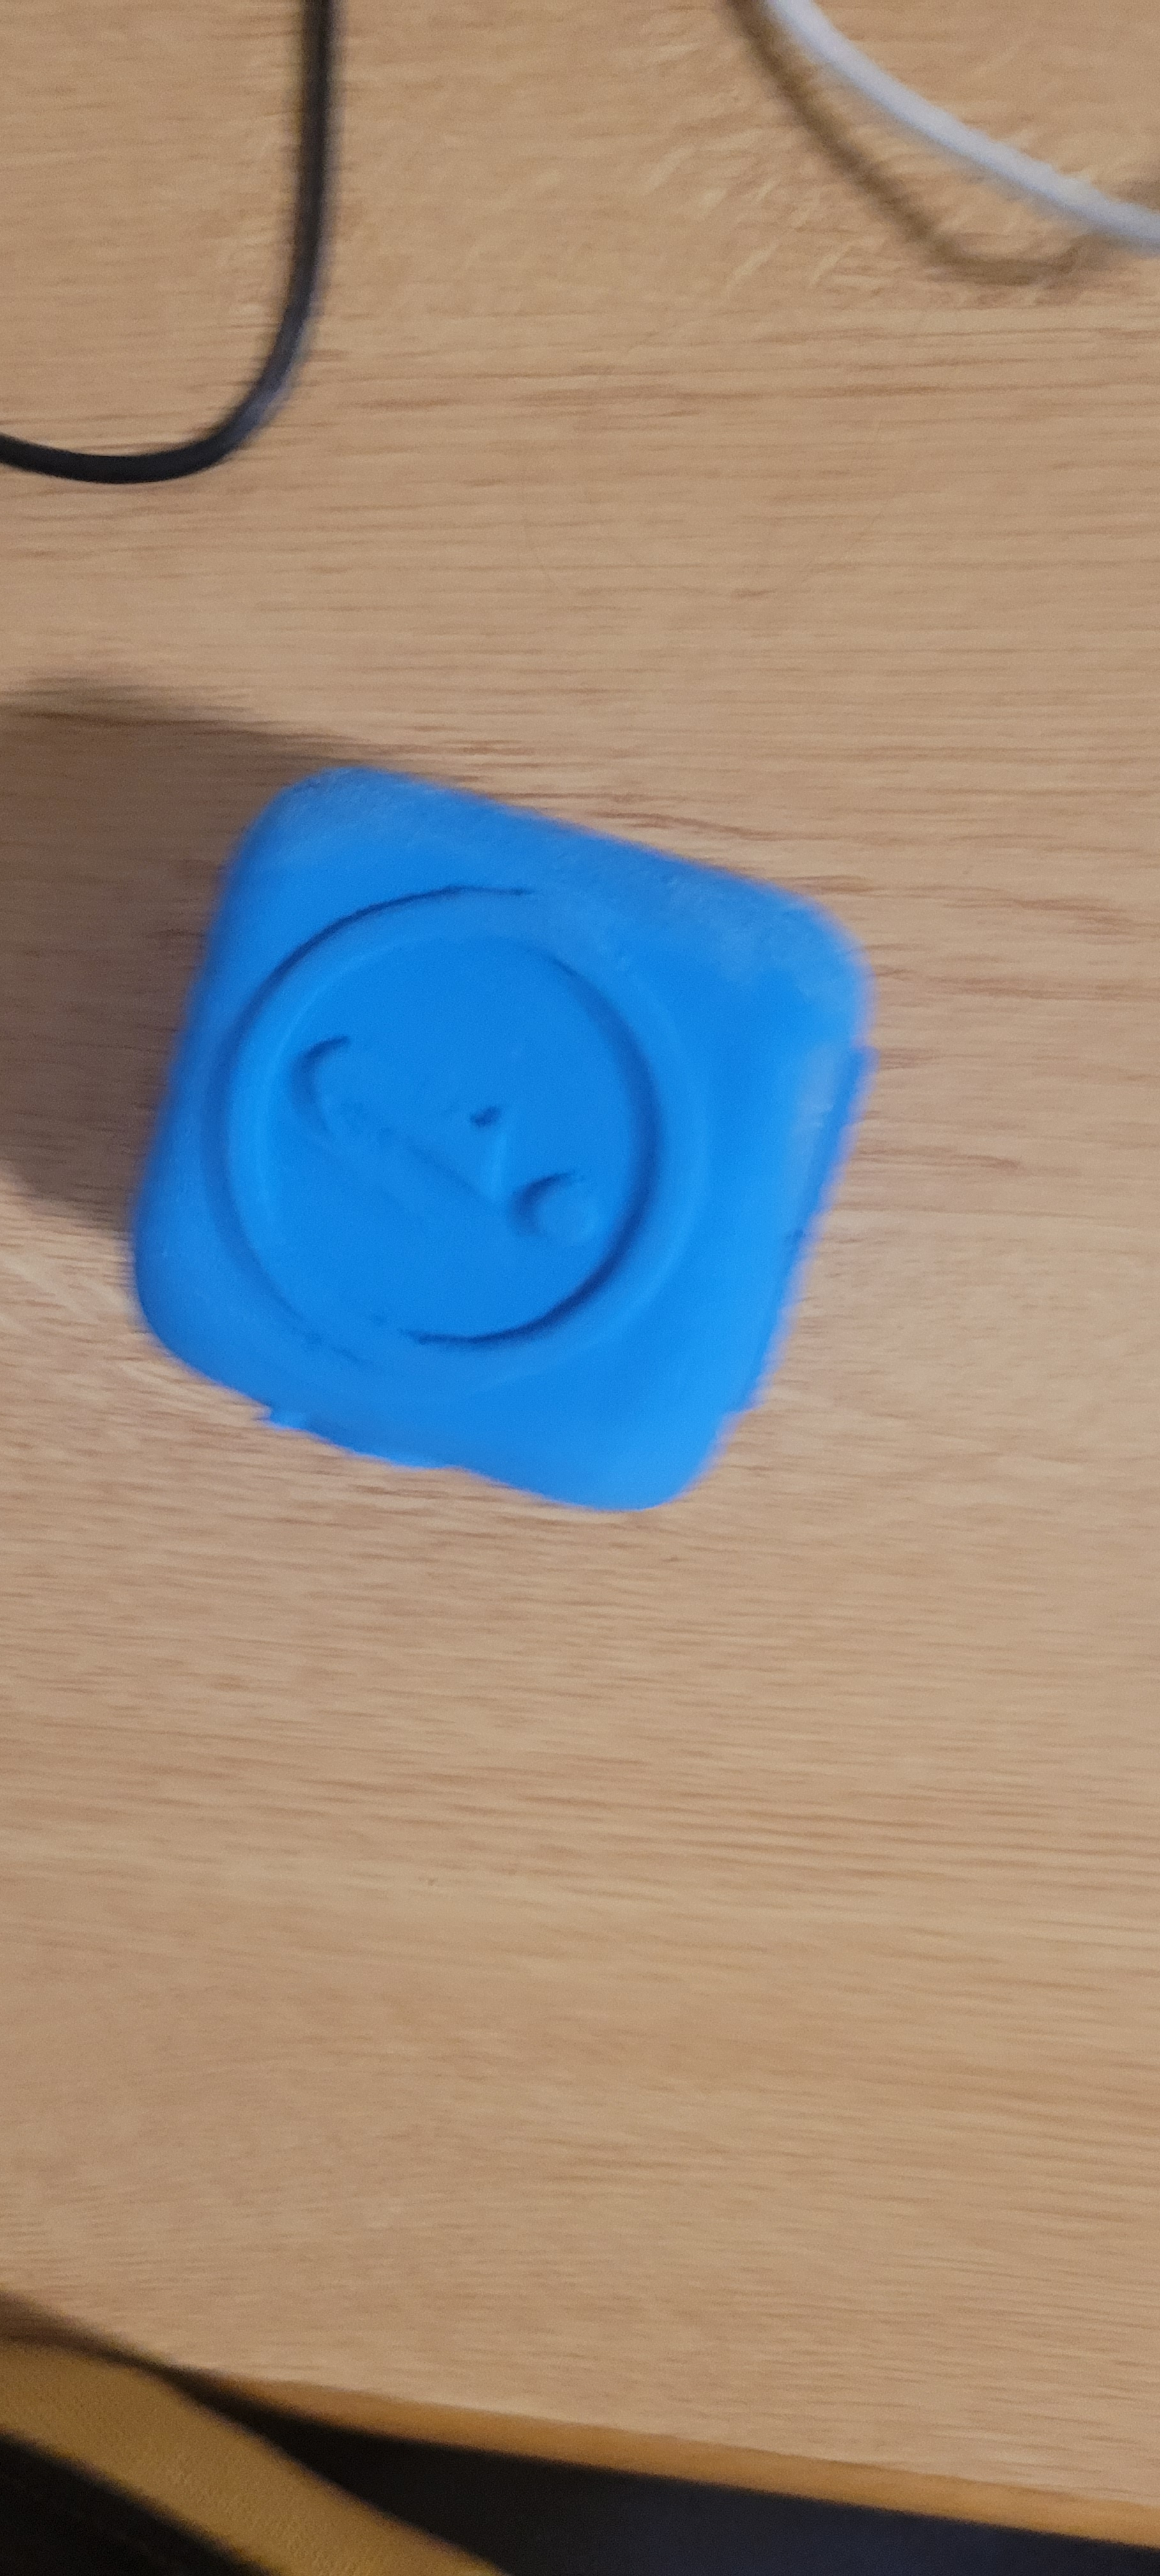Info: (204, 779, 718, 1391)
